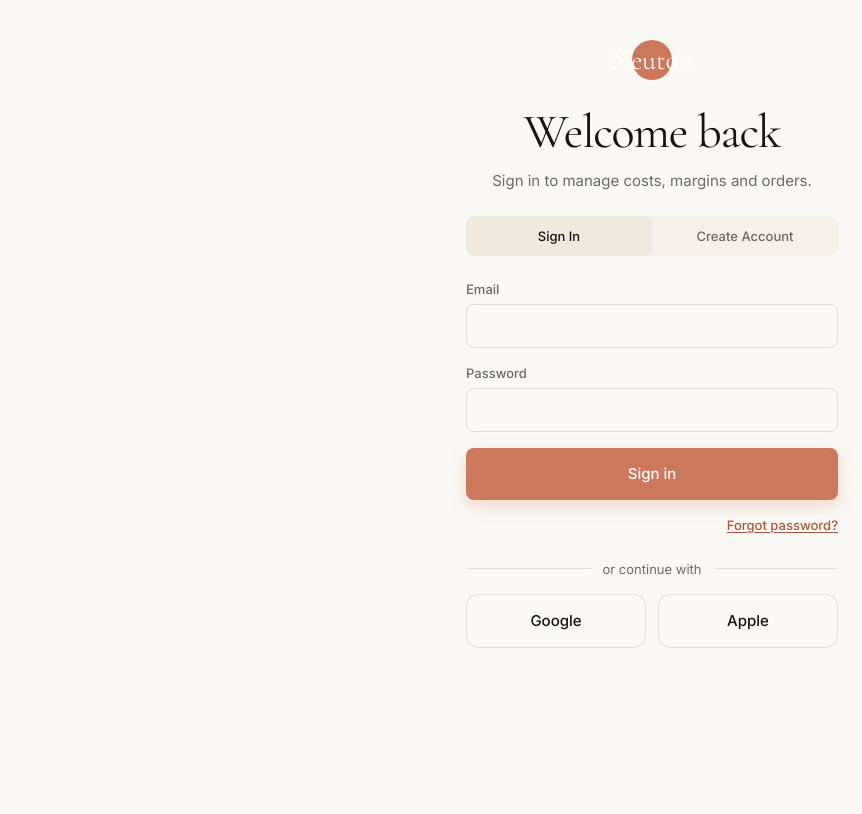
AuthPage sign in › returns to the dashboard by default
Type "testtest@gmail.com" into the field labelled "Email" at (652, 326), box [466,304,838,348]
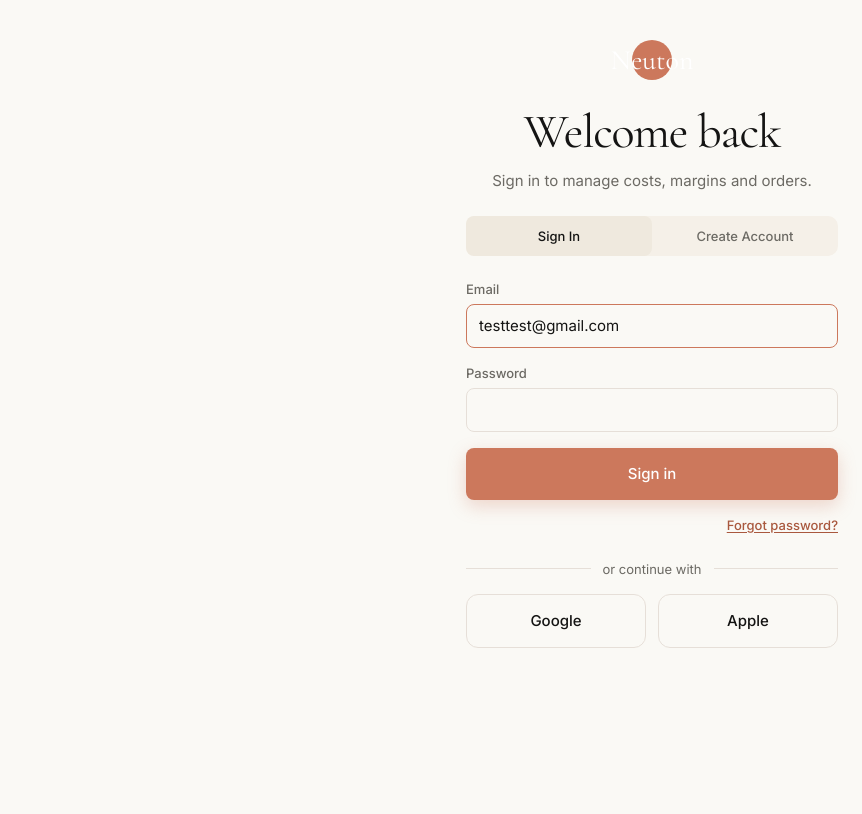
Type "testTest" into the password field labelled "Password" at (652, 410), box [466,388,838,432]
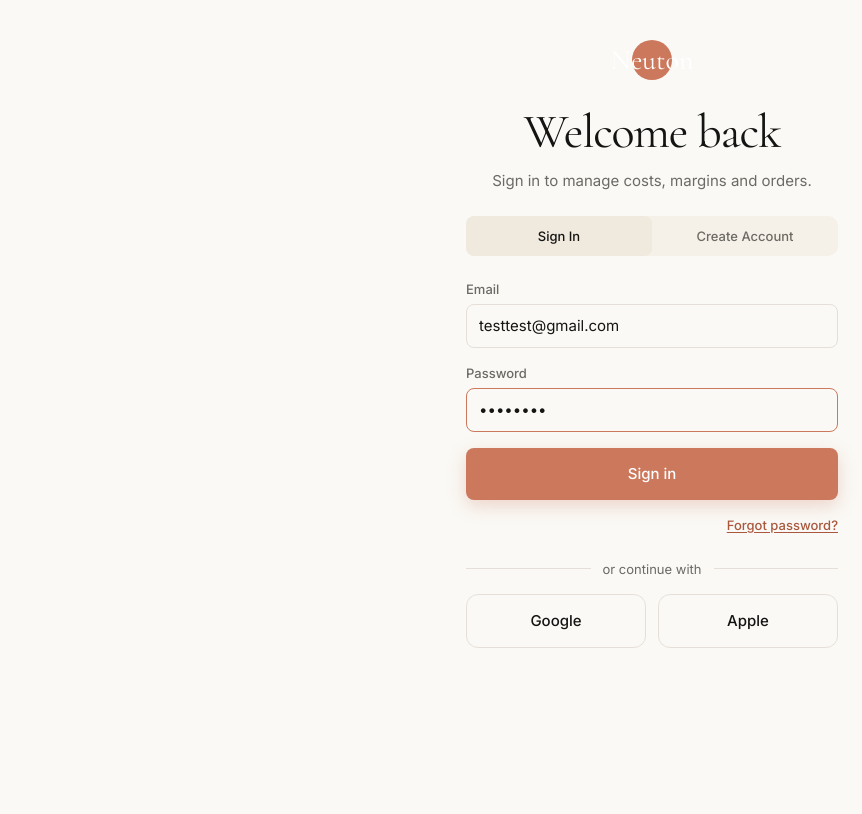
Click the button "Sign in" at (652, 474), box [466,448,838,500]
(page scrolled)
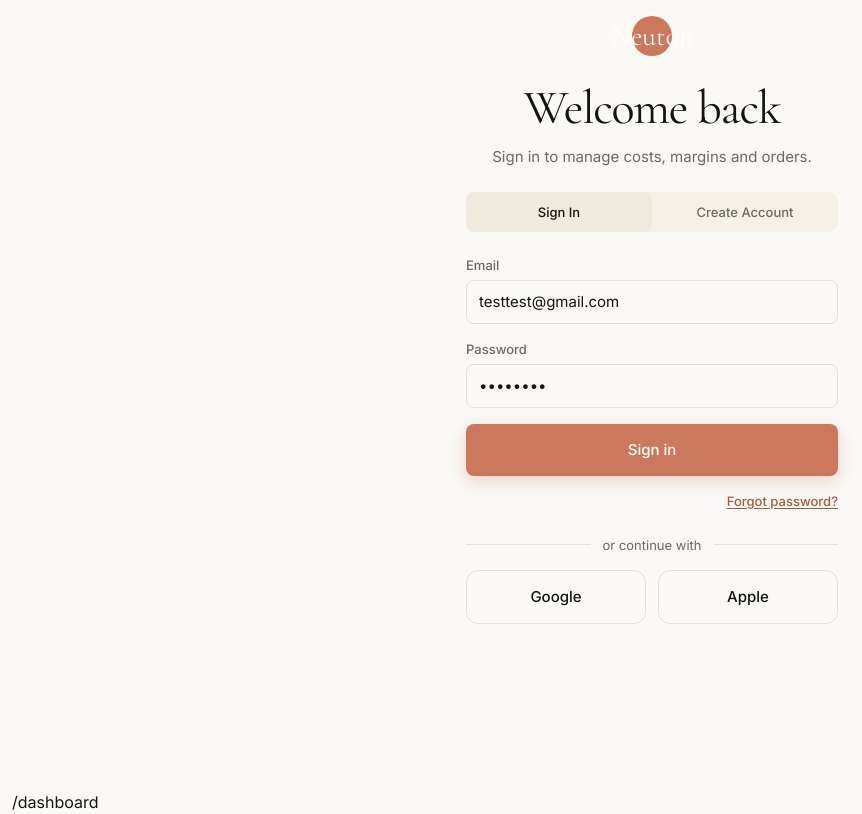
Expected: the text with test id "where" reads "/dashboard", [12,792,98,812]
